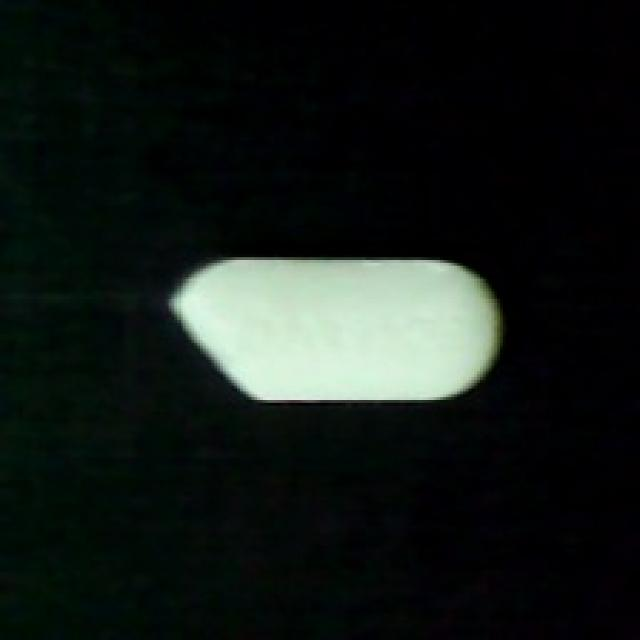defected: (149, 254, 506, 420)
